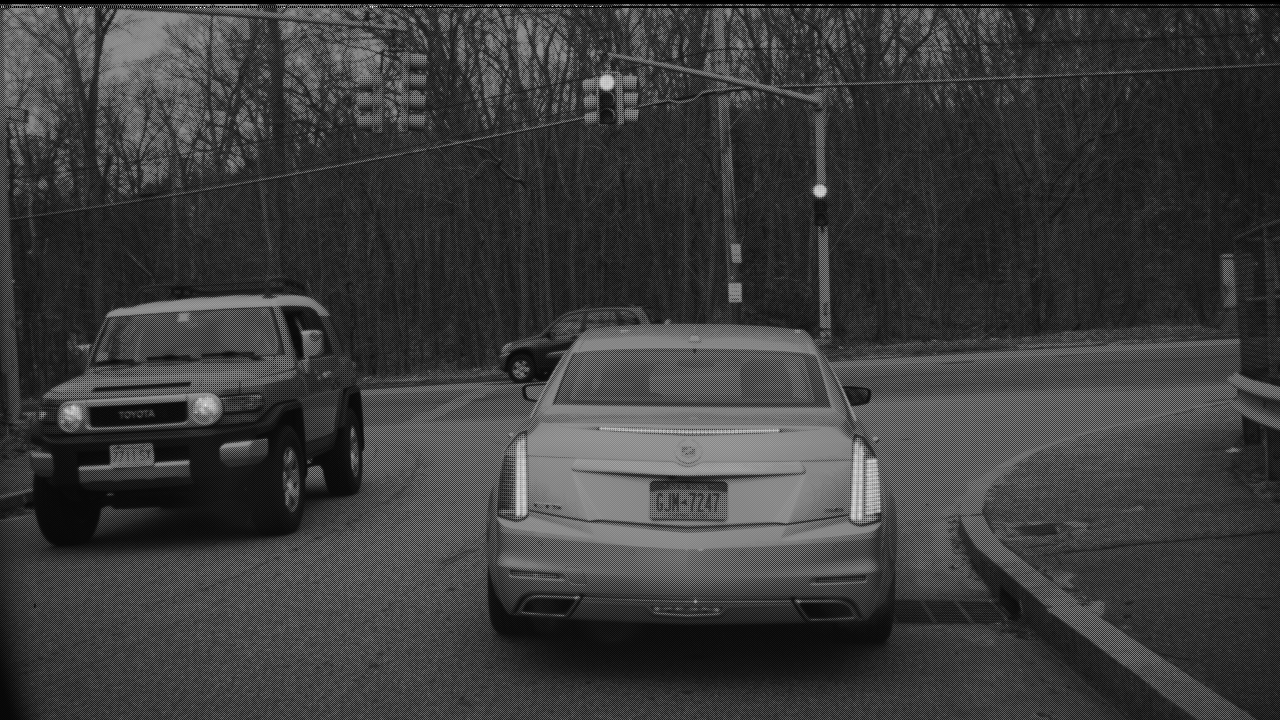pole: (713, 1, 741, 316), (813, 103, 831, 329)
